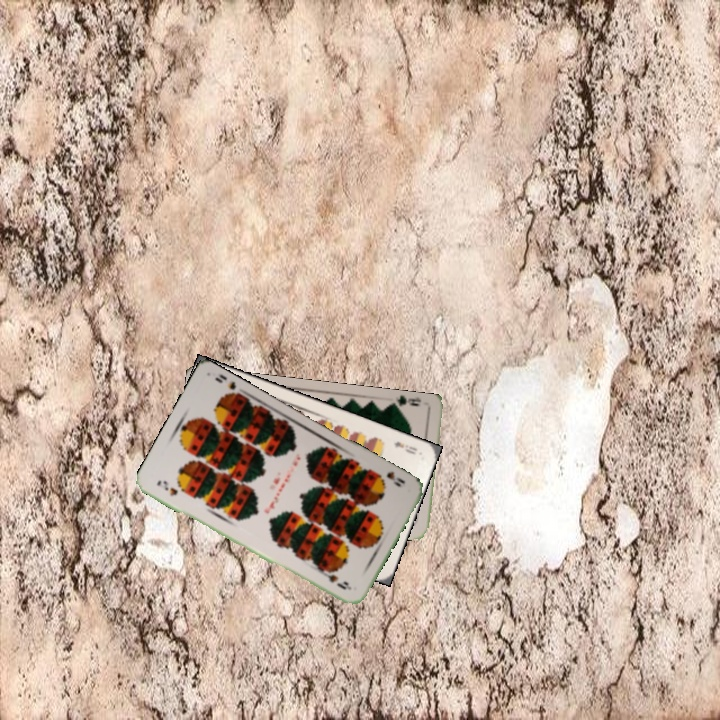E9: (390, 437, 420, 457)
G9: (387, 393, 423, 413)
S9: (371, 467, 408, 489), (152, 476, 180, 498)
